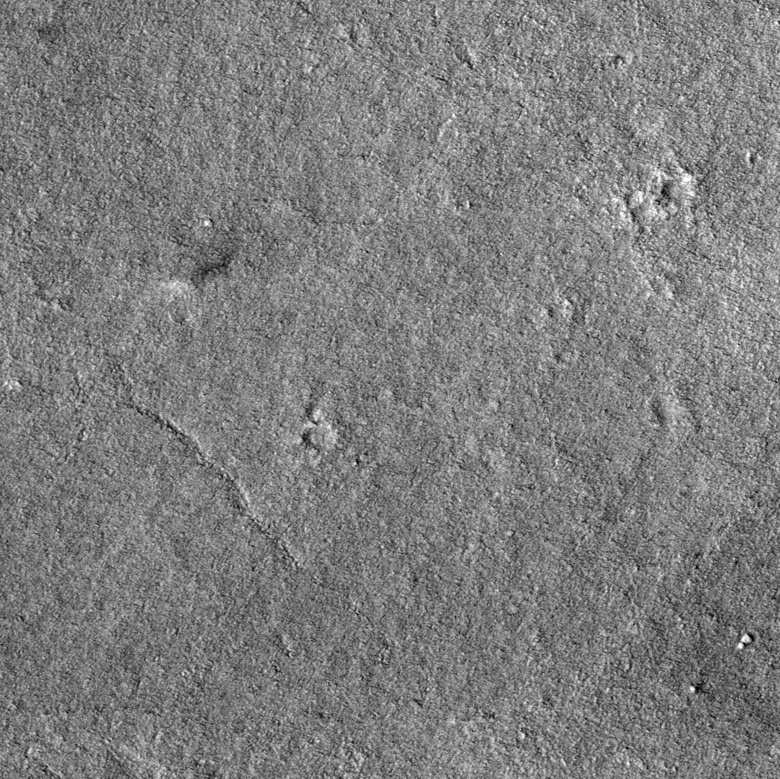dust_devil: (158, 244, 244, 300)
